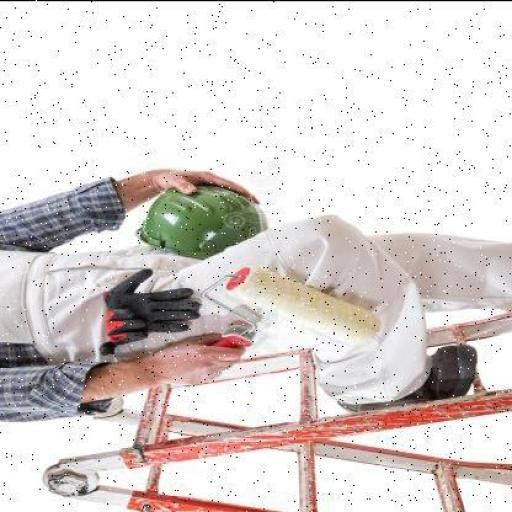safety_shoe: (330, 344, 484, 419)
